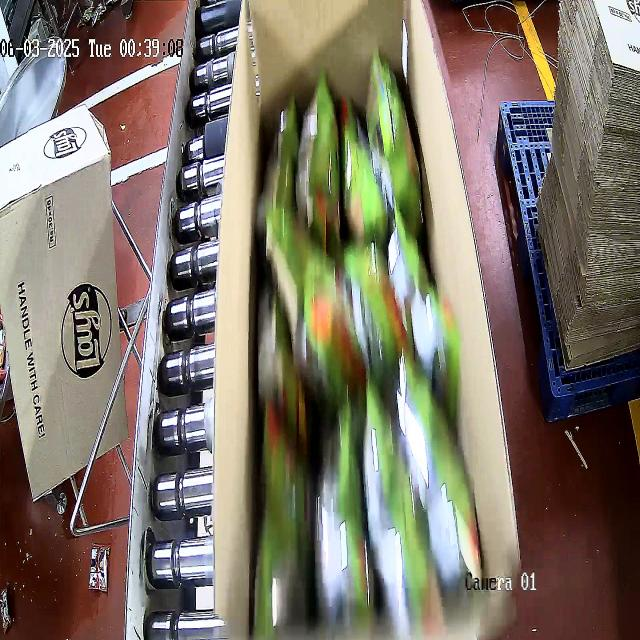YOGURT_HERB: (253, 46, 482, 636)
